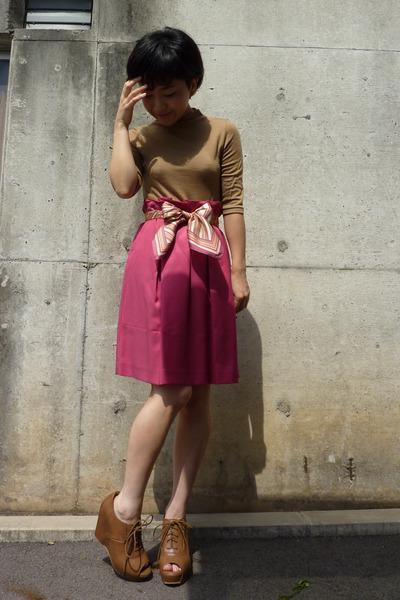short sleeve shirt: (110, 106, 251, 218)
skirt: (112, 212, 244, 392)
